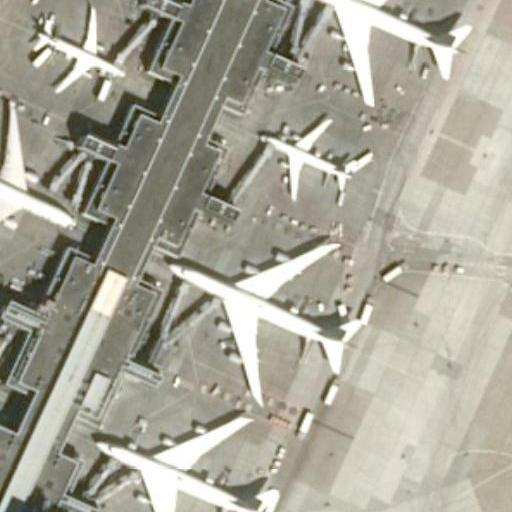Aircraft: (147, 230, 376, 404), (78, 399, 278, 512), (275, 0, 468, 103), (12, 1, 142, 102), (0, 100, 74, 264), (256, 113, 381, 209), (0, 269, 6, 447)
